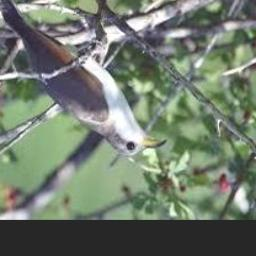Cuckoo: (0, 0, 167, 156)
